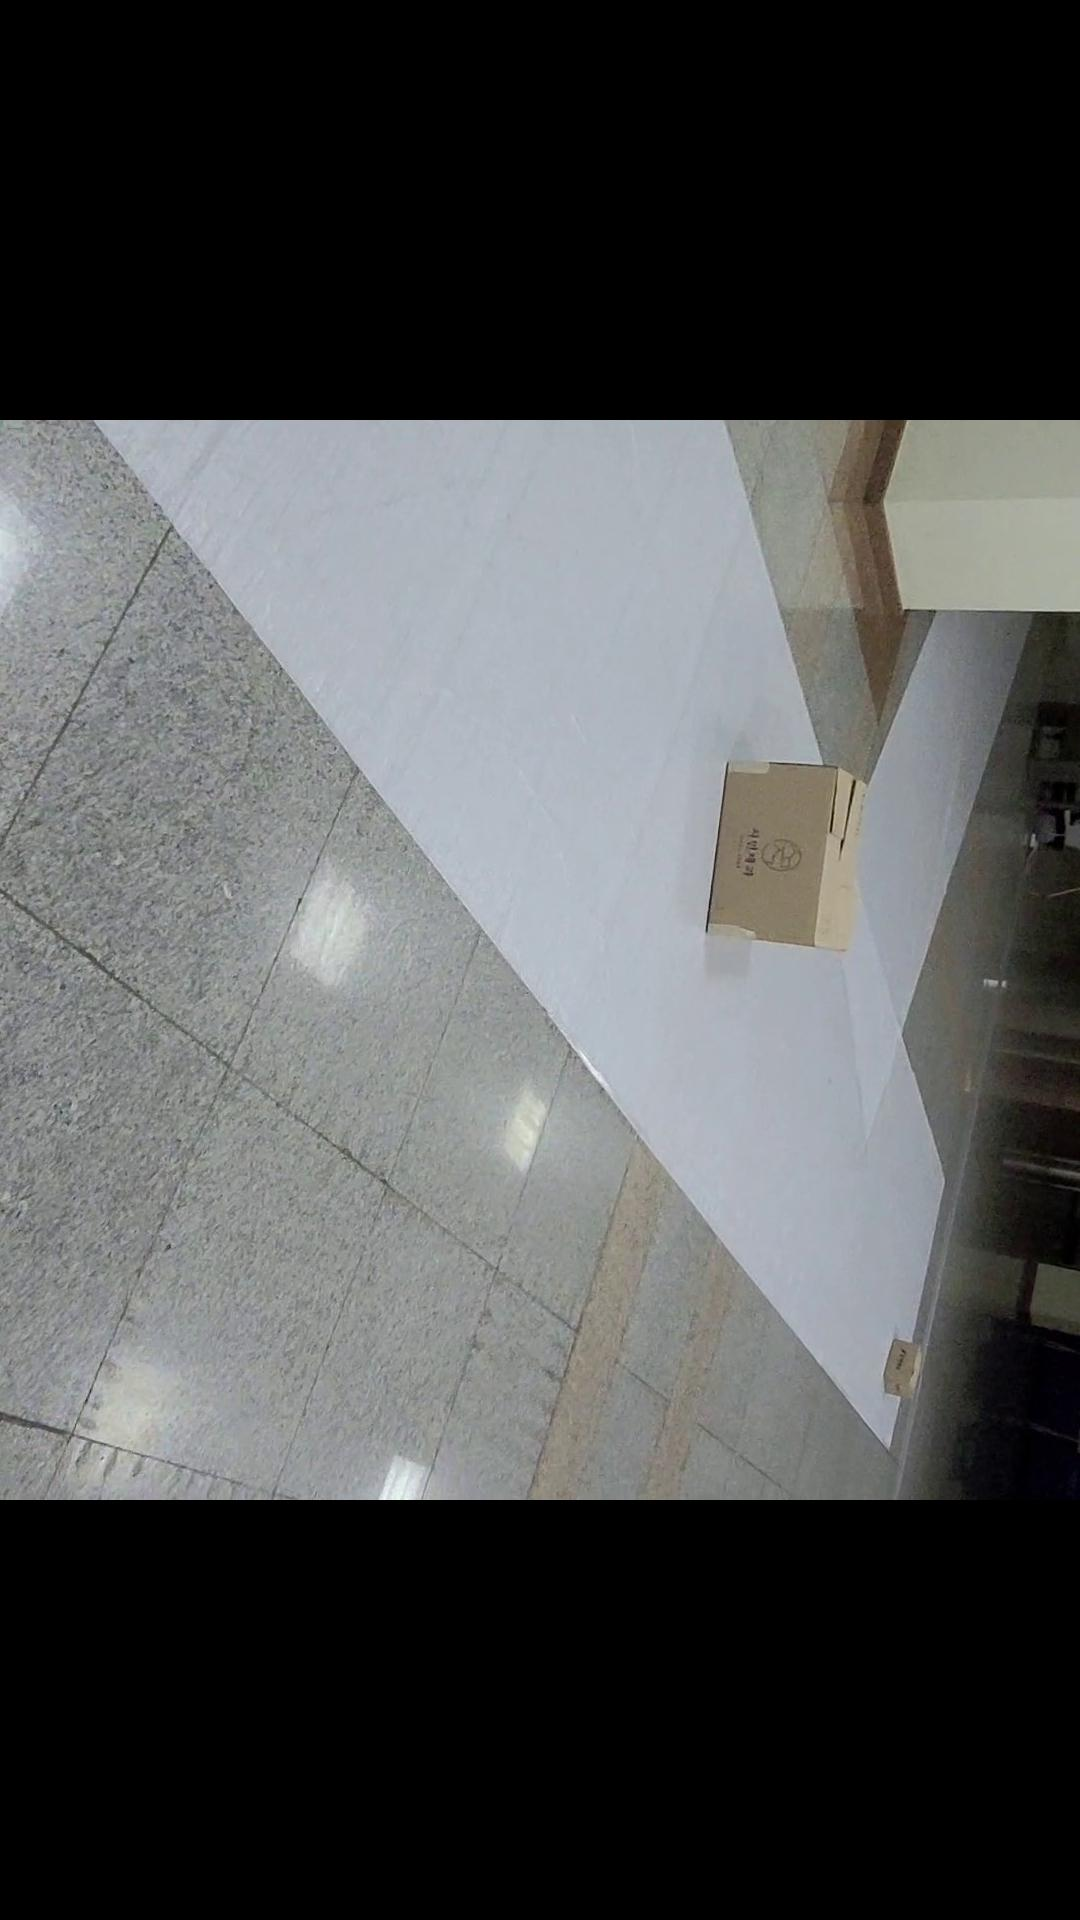Box: (684, 736, 890, 1004), (852, 1313, 938, 1427)
